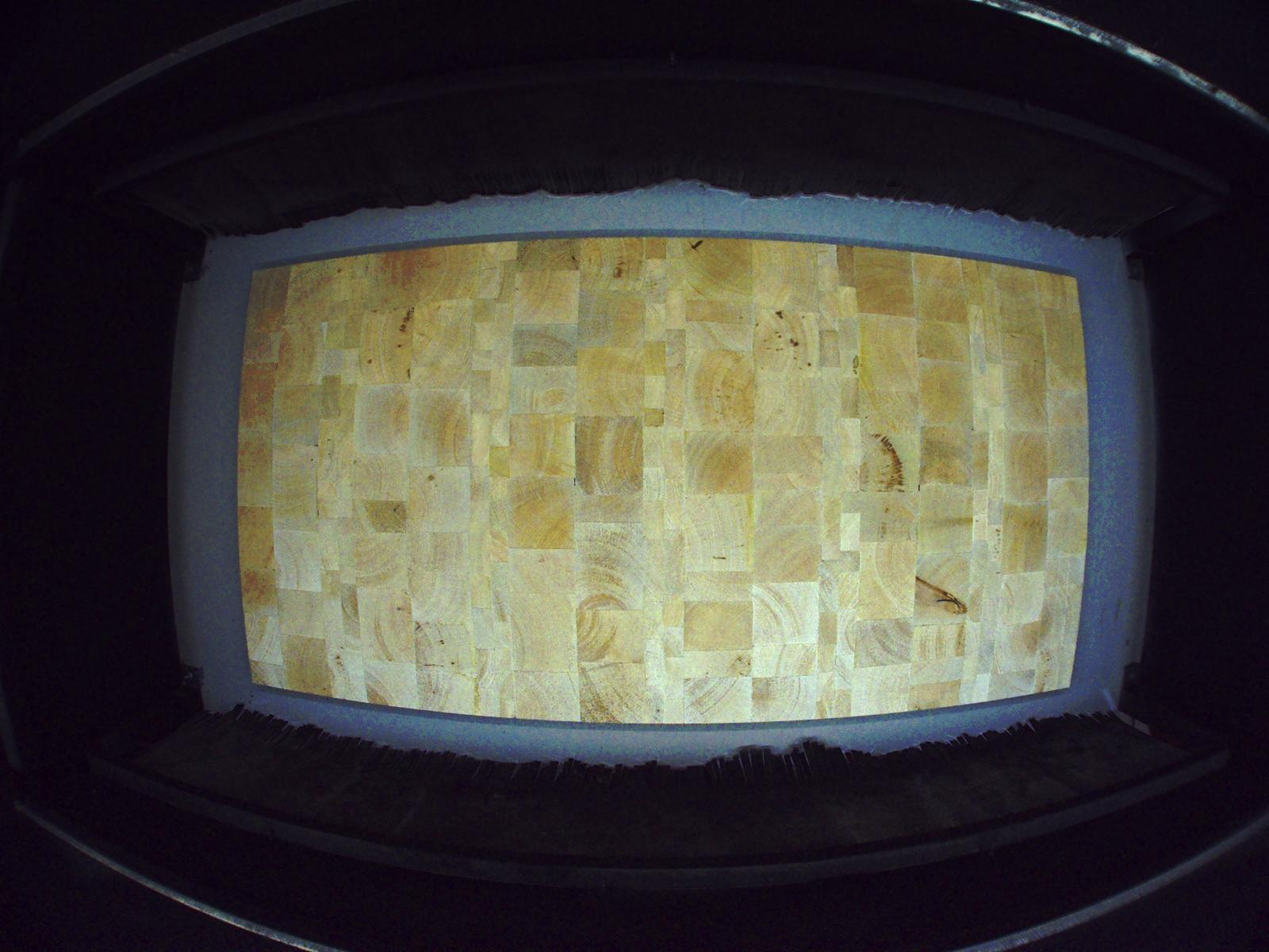nudillo: (914, 574, 968, 617)
